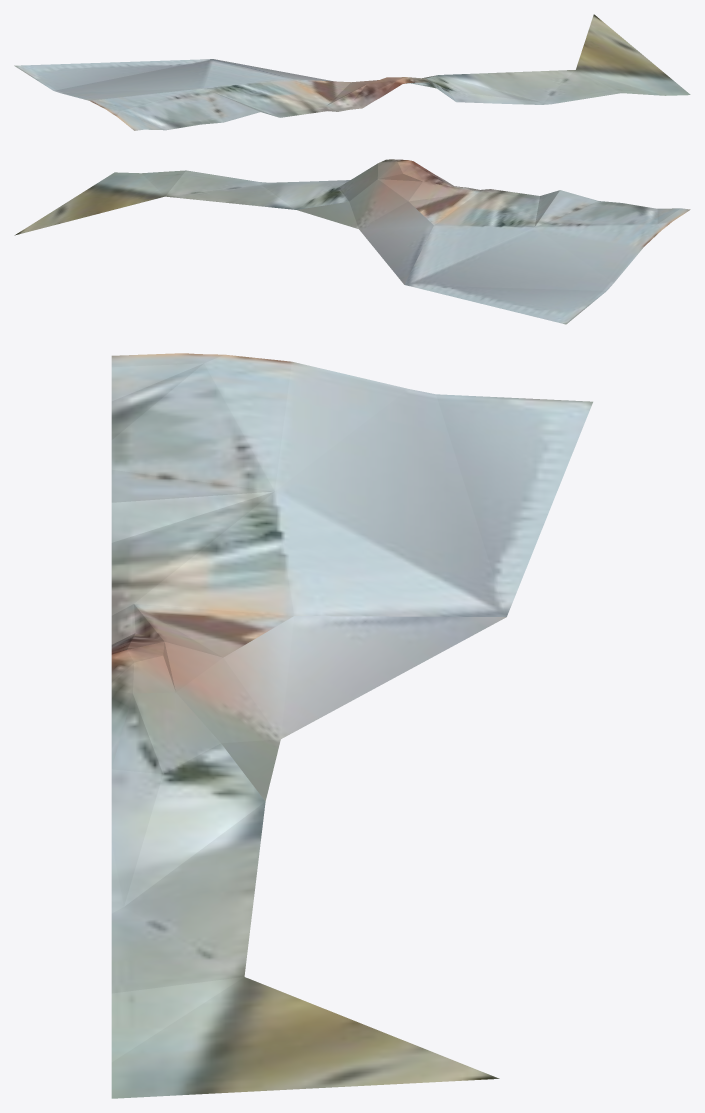
3 renders of one model, top to bottom at view 1: azimuth 30°, elevation 25°; view 2: azimuth 150°, elevation 25°; view 3: azimuth 270°, elevation 25°, orthographic. The views are drawn at different scales.
Bounding box in the file's own units: 3.35 × 0.5821 × 1.26.
1 material, 1 textured.
